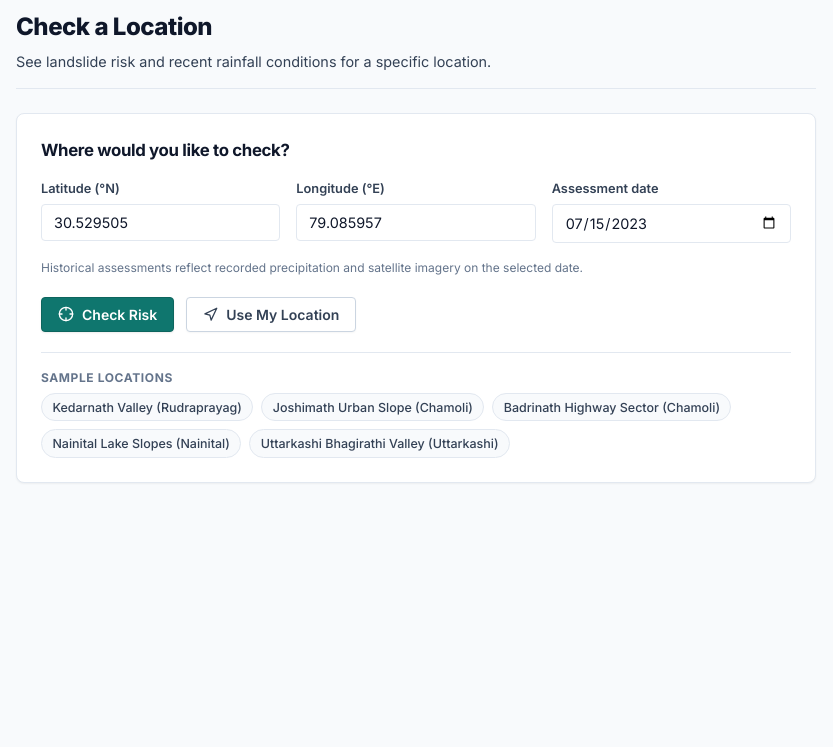
Check a Location (/assess) Page Refactor › clears stale results when user edits coordinate inputs
Click the button "Check Risk".
click(108, 314)  # box [41,297,174,332]
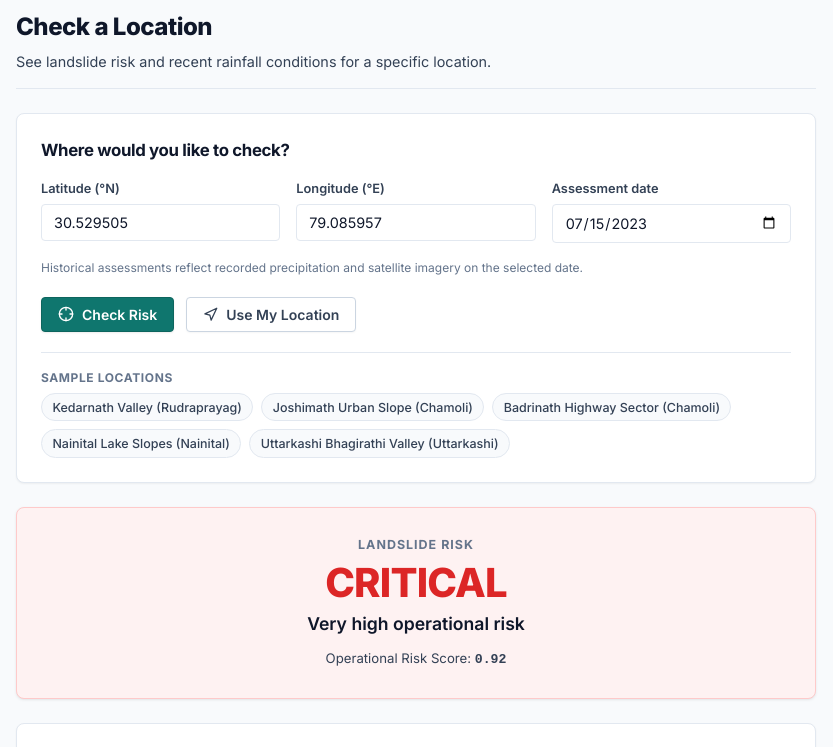
Result: the text "CRITICAL" is shown at [325,558,507,607]
// Edit latitude
Replace the text in the number field with placeholder "e.g. 30.5295" below "Latitude (°N)" with "30.6000" at (161, 222), box [41,204,280,241]
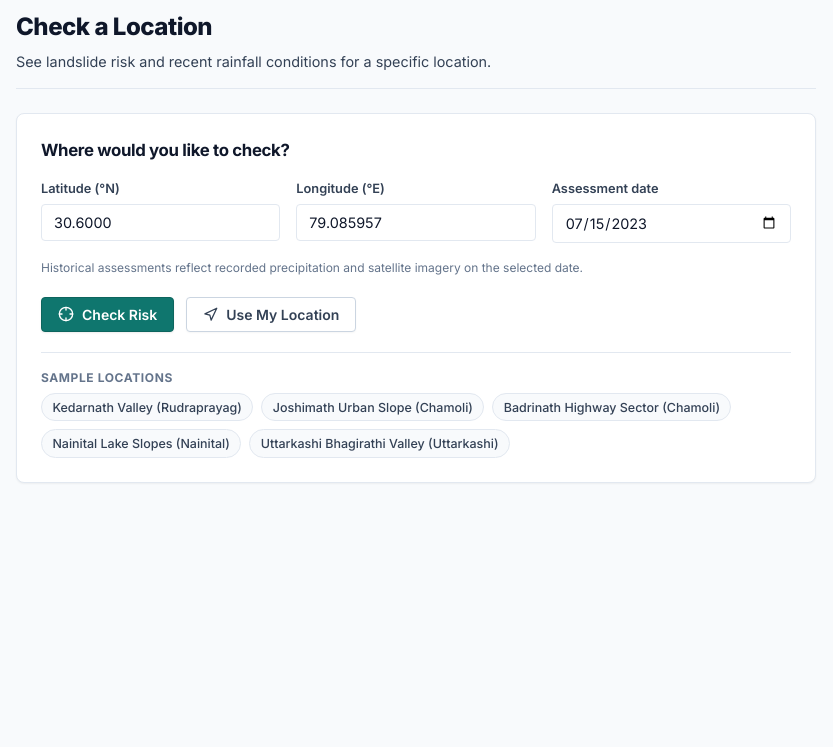
Expected: the heading "What's contributing?" is not shown
Result: the text "CRITICAL" is gone
